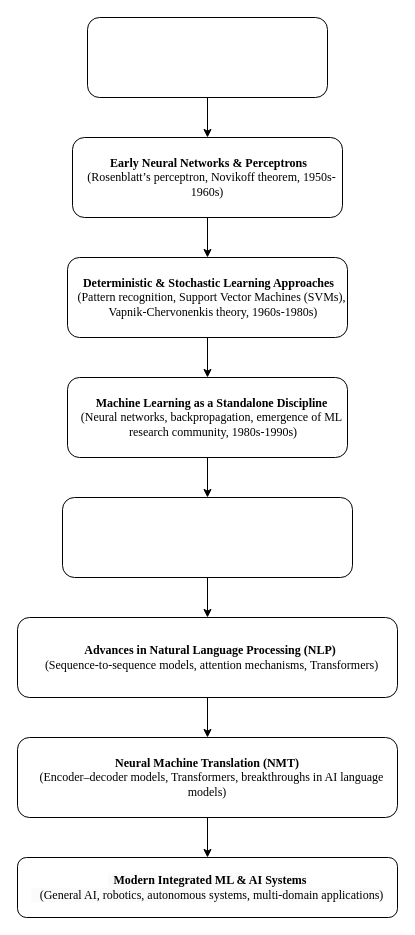
Image size: 415x935. Some labels were removed from this diagram. Each missing label, with the box of its shape:
Cybernetics & Control Science. (Early theories of adaption and learning): (86, 16, 328, 98)
Deep Learning Revolution (CNNs, RNNs, breakthroughs in GPU computing, 2000s): (62, 496, 352, 578)
